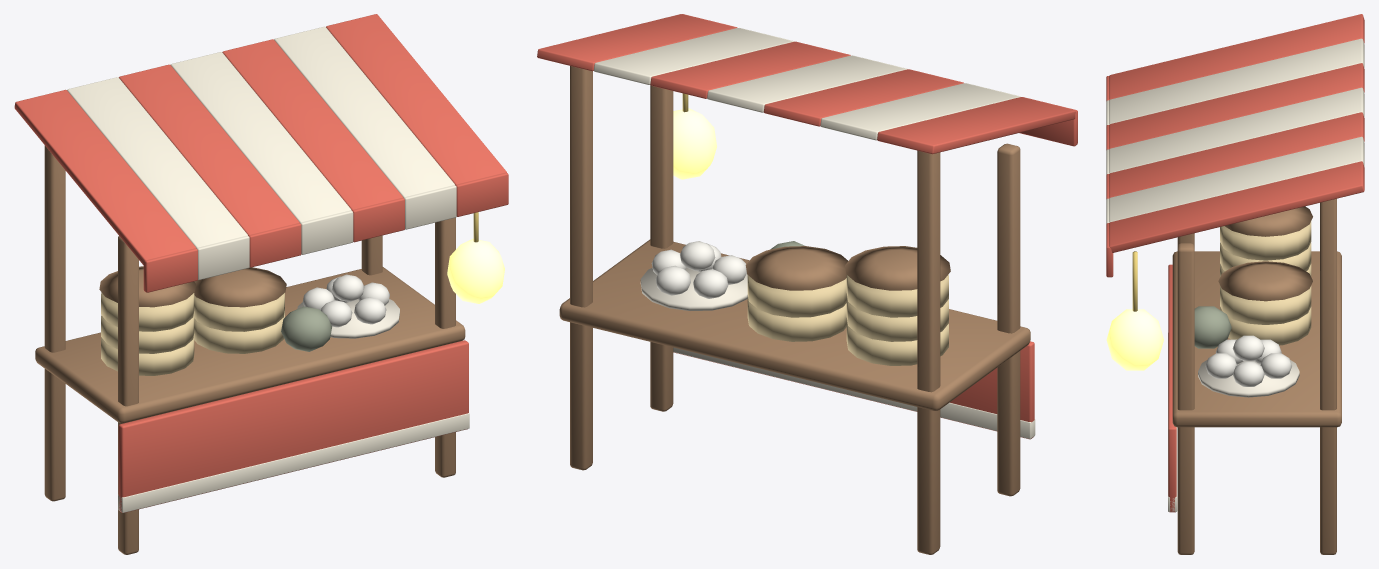
The model's file is stall.glb.
3 renders of one model, left to right at view 1: azimuth 30°, elevation 25°; view 2: azimuth 150°, elevation 25°; view 3: azimuth 270°, elevation 25°, orthographic. The views are drawn at different scales.
Visible parts, largest first — view 1: Skirt, Top, Awning0, Awning3, Awning4, Awning6, Awning2, Awning5, Awning1, Post.001, SkirtHem, Post (+22 smaller); view 2: Top, Post.001, Post.003, Post, Awning0, Post.002, Awning1, Awning4, Awning2, Awning5, Awning3, Awning6 (+16 smaller); view 3: Top, Awning6, Awning2, Awning4, Awning0, Awning3, Awning5, Awning1, Post.003, Post.002, Lid.001, Lantern (+14 smaller).
Boxes of the visible parts, bbox=[...] form: Skirt: bbox=[118, 340, 468, 512]; Top: bbox=[35, 267, 465, 423]; Awning0: bbox=[14, 89, 196, 265]; Awning3: bbox=[170, 52, 351, 223]; Awning4: bbox=[222, 39, 403, 210]; Awning6: bbox=[326, 14, 506, 185]; Awning2: bbox=[119, 64, 299, 235]; Awning5: bbox=[274, 26, 454, 197]; Awning1: bbox=[67, 77, 247, 248]; Post.001: bbox=[44, 145, 65, 501]; SkirtHem: bbox=[118, 413, 469, 512]; Post: bbox=[118, 236, 138, 554]; Top: bbox=[559, 239, 1030, 410]; Post.001: bbox=[917, 150, 940, 554]; Post.003: bbox=[570, 66, 592, 470]; Post: bbox=[997, 143, 1020, 496]; Awning0: bbox=[877, 97, 1076, 154]; Post.002: bbox=[650, 85, 673, 411]; Awning1: bbox=[820, 83, 1018, 140]; Awning4: bbox=[650, 41, 849, 98]; Awning2: bbox=[763, 69, 962, 126]; Awning5: bbox=[593, 28, 792, 84]; Awning3: bbox=[707, 55, 905, 112]; Awning6: bbox=[537, 14, 735, 71]; Top: bbox=[1172, 251, 1341, 427]; Awning6: bbox=[1109, 161, 1364, 252]; Awning2: bbox=[1109, 63, 1364, 148]; Awning4: bbox=[1109, 112, 1364, 197]; Awning0: bbox=[1109, 14, 1364, 99]; Awning3: bbox=[1109, 87, 1364, 173]; Awning5: bbox=[1109, 136, 1364, 222]; Awning1: bbox=[1109, 38, 1364, 123]; Post.003: bbox=[1320, 198, 1336, 554]; Post.002: bbox=[1177, 243, 1194, 554]; Lid.001: bbox=[1218, 261, 1312, 301]; Lantern: bbox=[1106, 309, 1163, 370].
Size of the model in its own units: 2.44 by 2.46 by 1.52.
